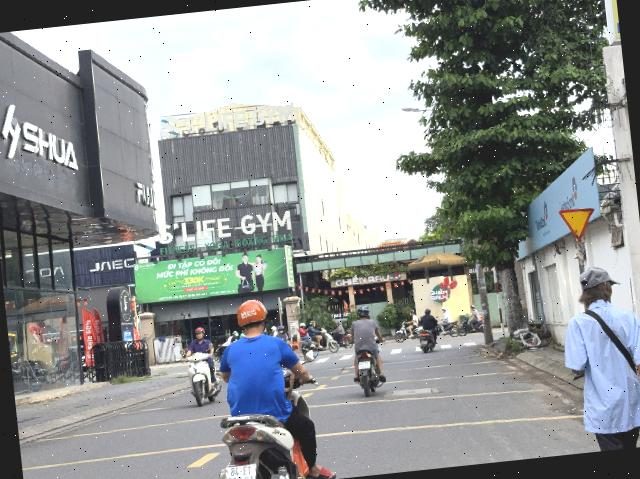giao-nhau-voi-duong-uu-tien: (558, 206, 599, 242)
